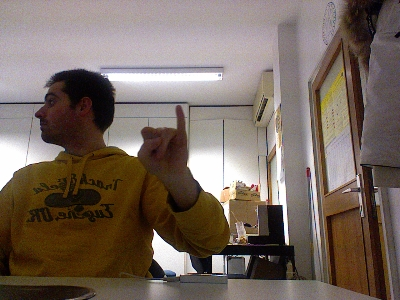小指: (136, 104, 188, 178)
